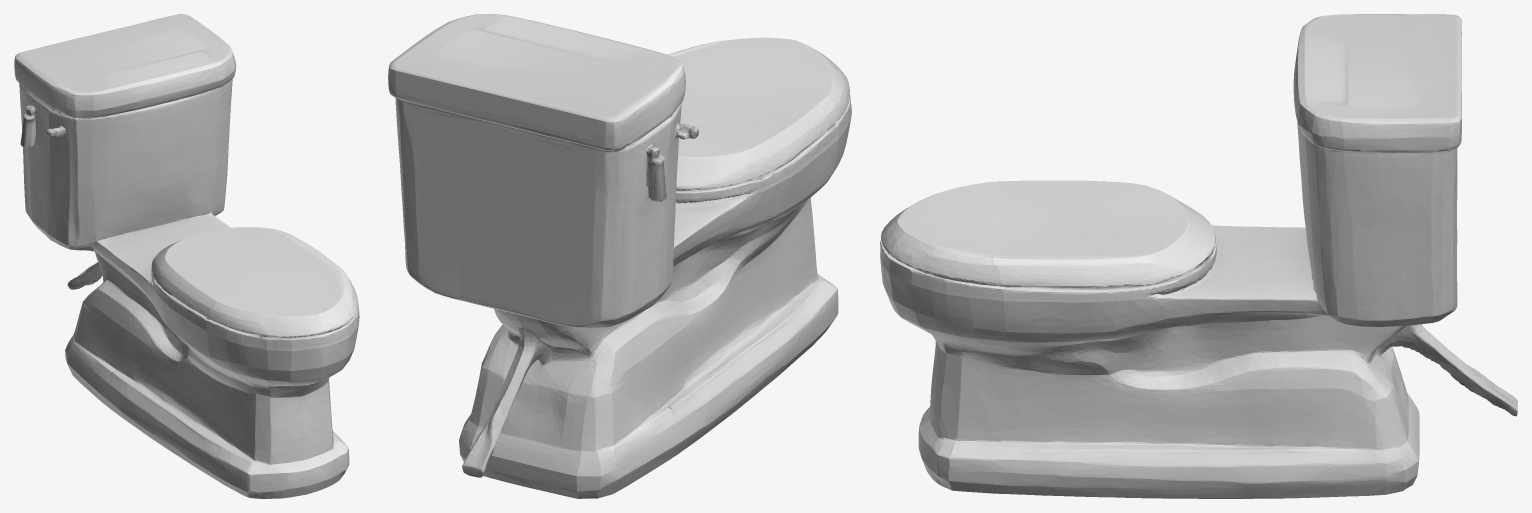
Rendered from toilet.glb.
3 renders of one model, left to right at view 1: azimuth 30°, elevation 25°; view 2: azimuth 150°, elevation 25°; view 3: azimuth 270°, elevation 25°, orthographic. The views are drawn at different scales.
Visible parts, largest first — view 1: geometry_0; view 2: geometry_0; view 3: geometry_0.
Boxes of the visible parts, left/top/right/bottom form: geometry_0: left=14, top=14, right=359, bottom=498; geometry_0: left=388, top=14, right=851, bottom=498; geometry_0: left=880, top=14, right=1517, bottom=498.
Bounding box in the file's own units: 0.4414 × 0.6855 × 1.
Materials: 1 (1 with a texture image).
